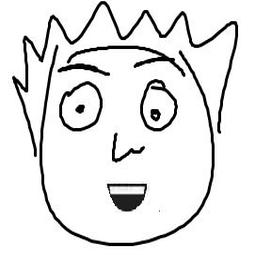eye: (53, 79, 111, 135), (132, 76, 185, 134)
eyebrow: (58, 59, 115, 76)
frowning_eyebrow: (133, 54, 173, 67)
nose: (104, 130, 148, 167)
open_mouth: (103, 180, 151, 216)
